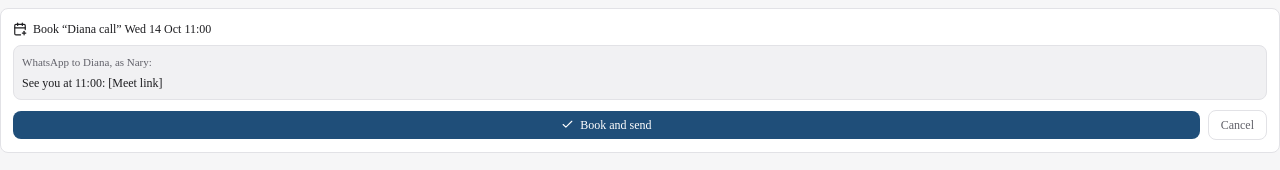
Scenario: Nary's small cards › books a meeting and sends the link only on Book and send
Expected: the text "See you at 11:00: [Meet link]" is shown, [22,76,162,90]
Click the button "Book and send".
click(606, 124)  # box [13,110,1200,138]
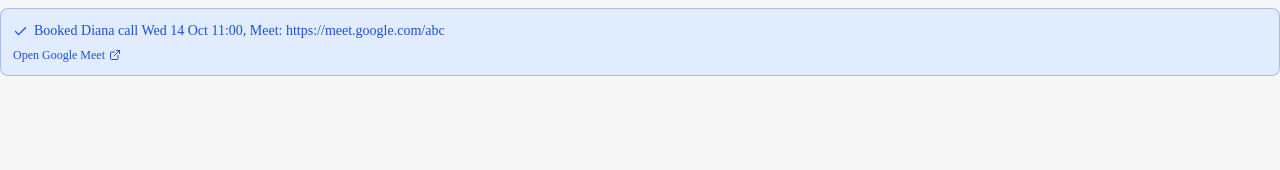
Result: the link "Open Google Meet" is shown at [13,47,121,63]
